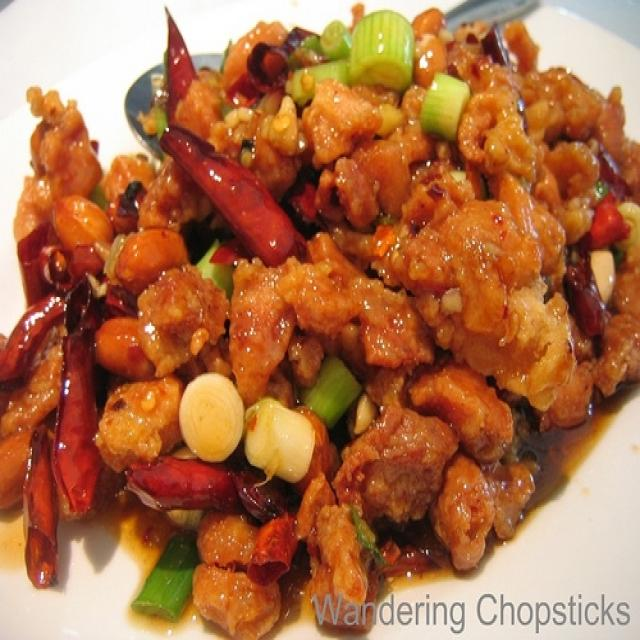鸡肉料理 含炸鸡: (19, 17, 608, 613)
